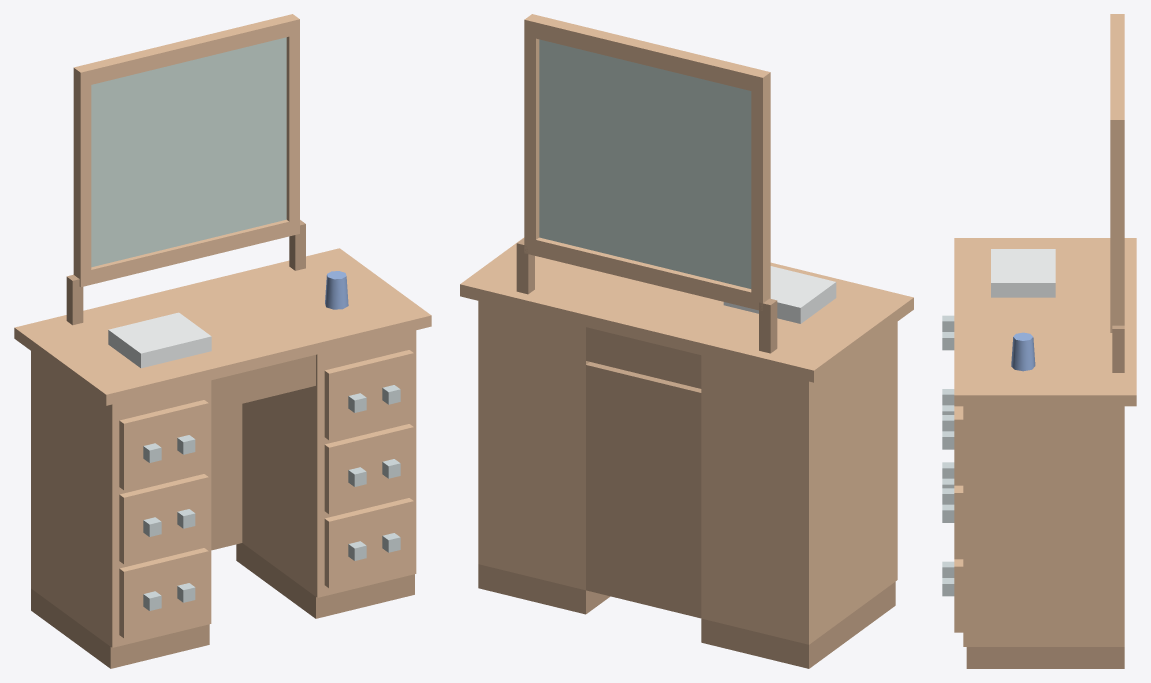
File: deskVanity.glb
3 views of the same model, side by side, from view 1: azimuth 30°, elevation 25°; view 2: azimuth 150°, elevation 25°; view 3: azimuth 270°, elevation 25° (orthographic). The views are drawn at different scales.
Visible parts, largest first — view 1: deskVanity; view 2: deskVanity; view 3: deskVanity.
Part boxes in pixels (x1,y1,x2,y2): deskVanity: (14,14,431,668); deskVanity: (460,14,913,668); deskVanity: (942,14,1136,668).
Size of the model in its own units: 0.46 by 0.72 by 0.24.
